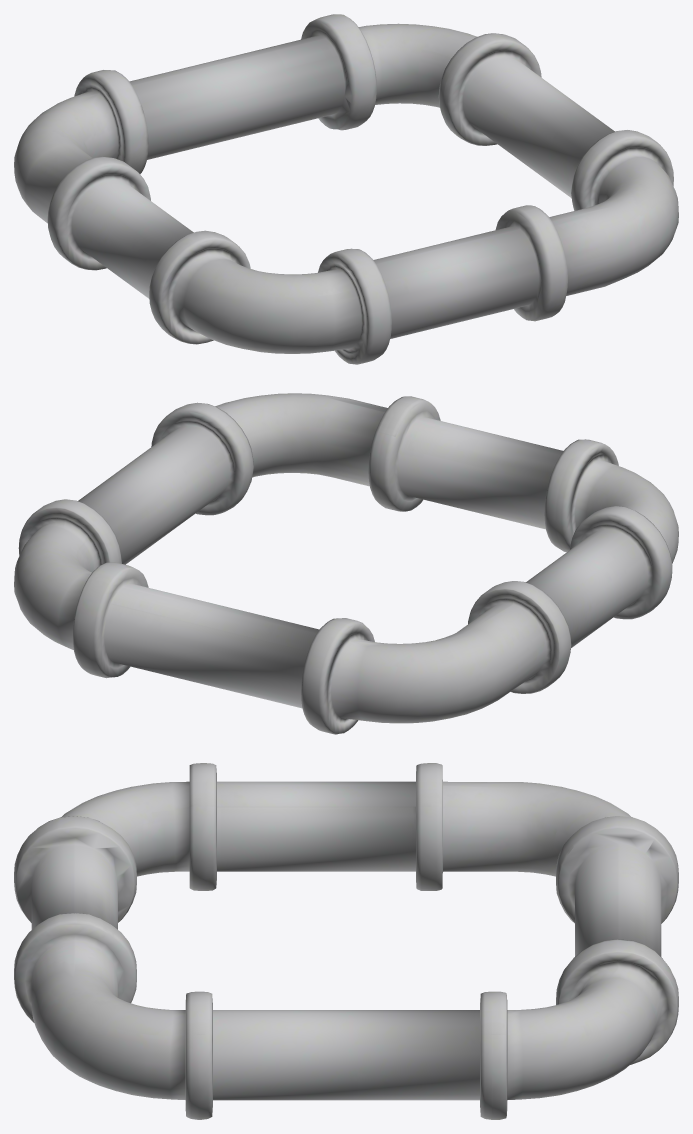
File: Industrial__l-shaped_industrial_pipe_3b570c7e_v3.cluster.glb
3 renders of one model, top to bottom at view 1: azimuth 30°, elevation 25°; view 2: azimuth 150°, elevation 25°; view 3: azimuth 270°, elevation 25°, orthographic. The views are drawn at different scales.
Parts seen in each view (by area): view 1: material; view 2: material; view 3: material.
Boxes of the visible parts, x1,y1,x2,y2 form: material: (14,14,678,364); material: (14,393,678,734); material: (14,763,678,1119).
Bounding box in the file's own units: 1.9 × 0.373 × 1.9.
Materials: 1 (1 with a texture image).
